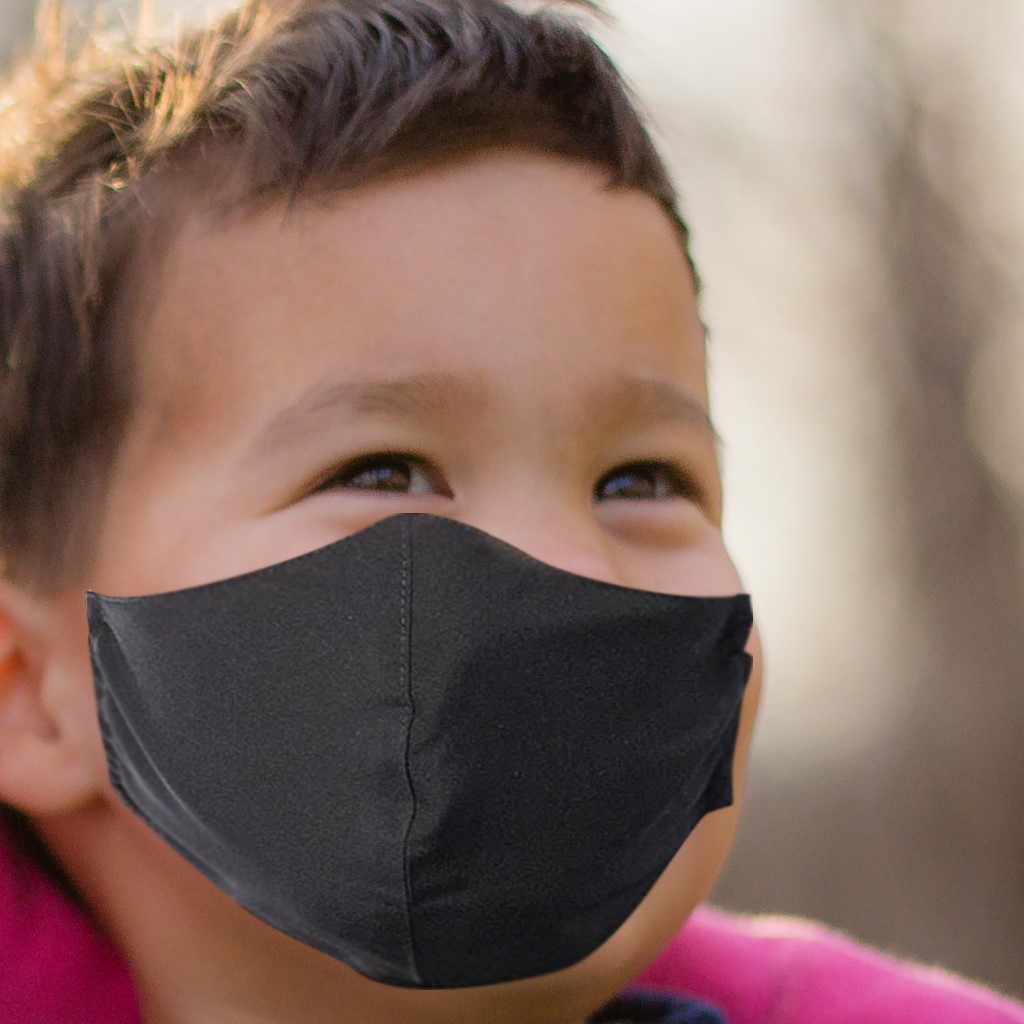con_mascara: (108, 85, 761, 1011)
